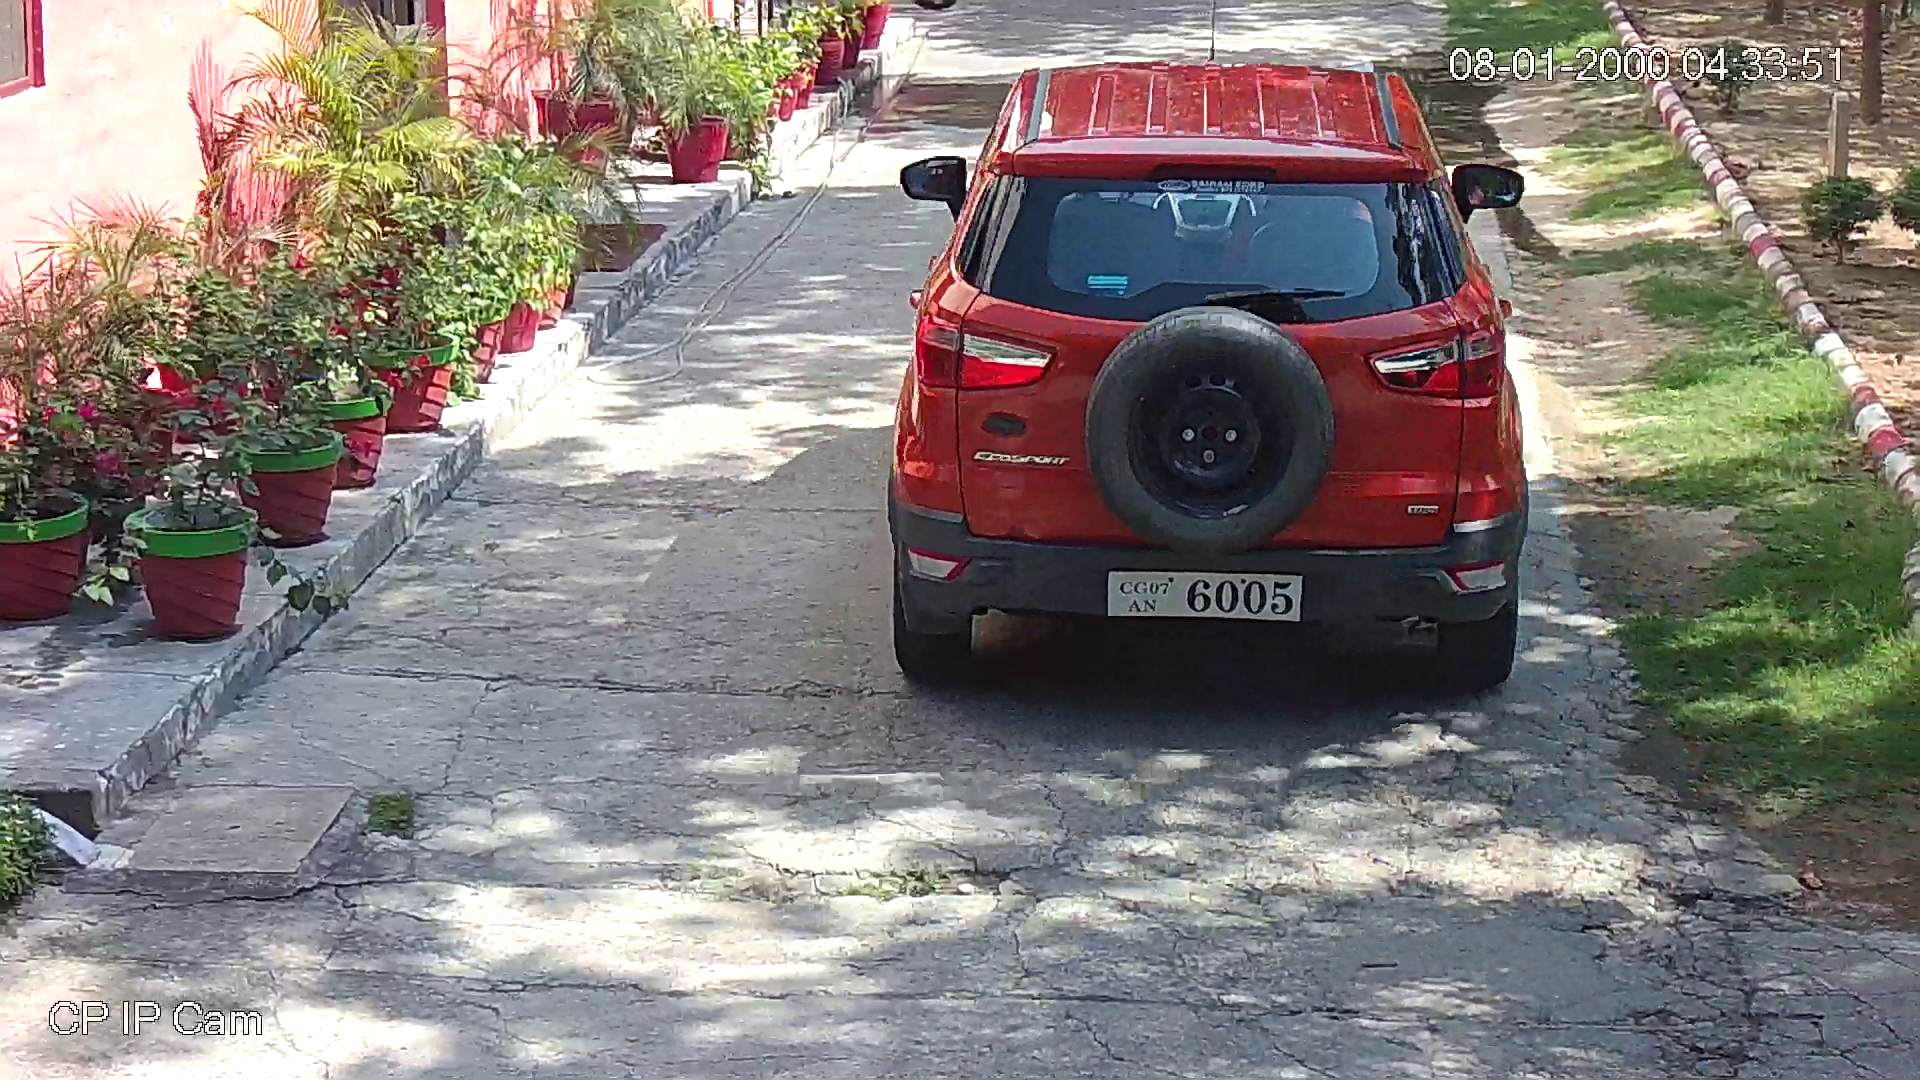plate: (1102, 564, 1308, 625)
